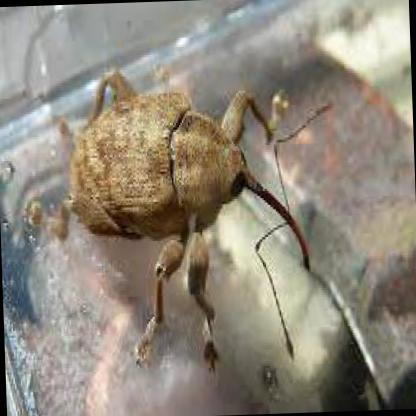ash weevil: (68, 64, 307, 370)
